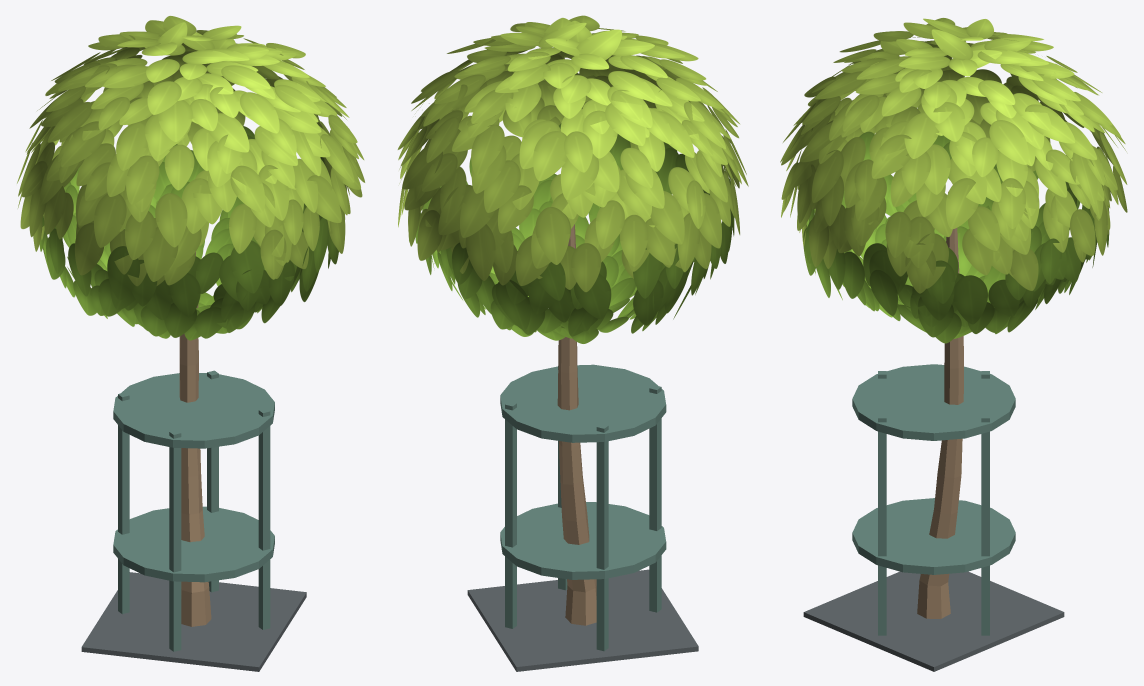
Rendered from street_young.glb.
3 renders of one model, left to right at view 1: azimuth 30°, elevation 25°; view 2: azimuth 150°, elevation 25°; view 3: azimuth 270°, elevation 25°, orthographic. The views are drawn at different scales.
Visible parts, largest first — view 1: foliage, trunk; view 2: foliage, trunk; view 3: foliage, trunk.
Boxes of the visible parts, x1=… form: foliage: x1=17, y1=16, x2=365, y2=340; trunk: x1=81, y1=252, x2=306, y2=671; foliage: x1=397, y1=15, x2=748, y2=343; trunk: x1=467, y1=224, x2=698, y2=671; foliage: x1=780, y1=18, x2=1127, y2=343; trunk: x1=803, y1=191, x2=1064, y2=671.
Bounding box in the file's own units: 2.05 × 3.78 × 2.02.
5 materials, 2 textured.
